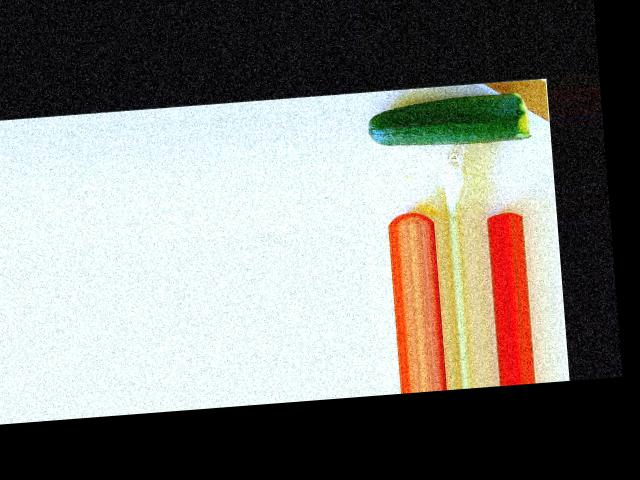cucumber: (364, 91, 531, 150)
